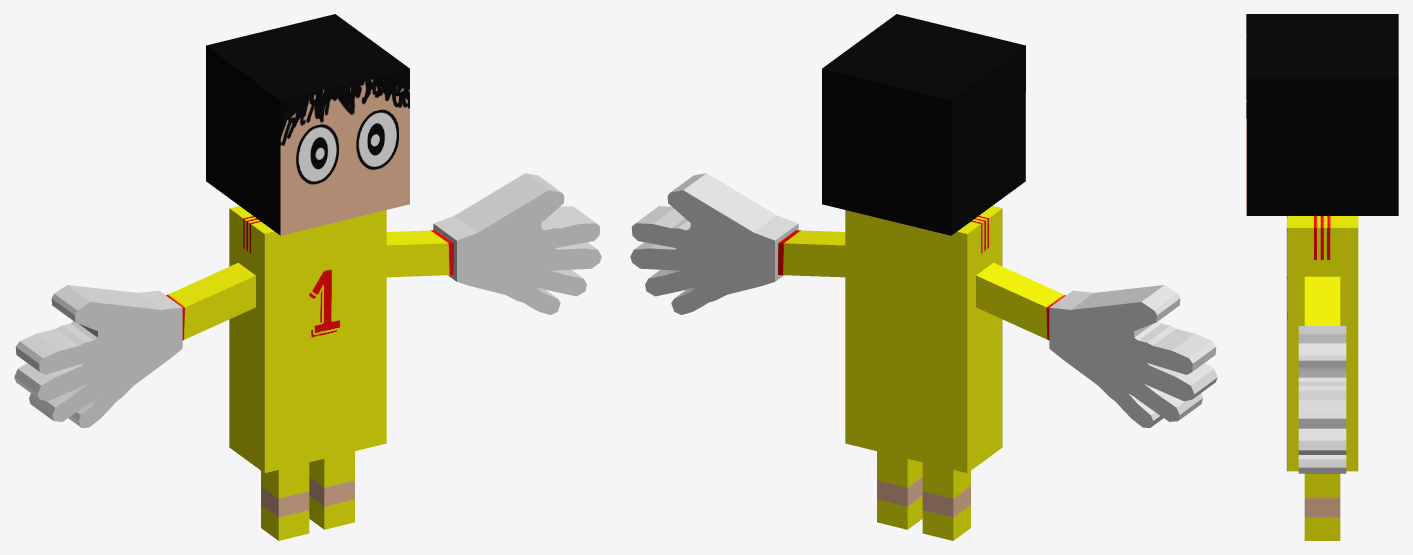
Rendered from keeper.fbx.
3 views of the same model, side by side, from view 1: azimuth 30°, elevation 25°; view 2: azimuth 150°, elevation 25°; view 3: azimuth 270°, elevation 25° (orthographic).
Visible parts, largest first — view 1: body, head, glove; view 2: body, head, glove; view 3: head, body, glove.
Part boxes in pixels (x1,y1,x2,y2): body: (166, 206, 453, 540); head: (206, 14, 409, 235); glove: (14, 173, 601, 427); body: (778, 206, 1065, 540); head: (822, 14, 1025, 235); glove: (630, 173, 1217, 427); head: (1246, 14, 1398, 215); body: (1286, 216, 1358, 540); glove: (1298, 326, 1346, 473).
Size of the model in its own units: 7.41 by 5.87 by 1.7.
3 materials, 2 textured.
